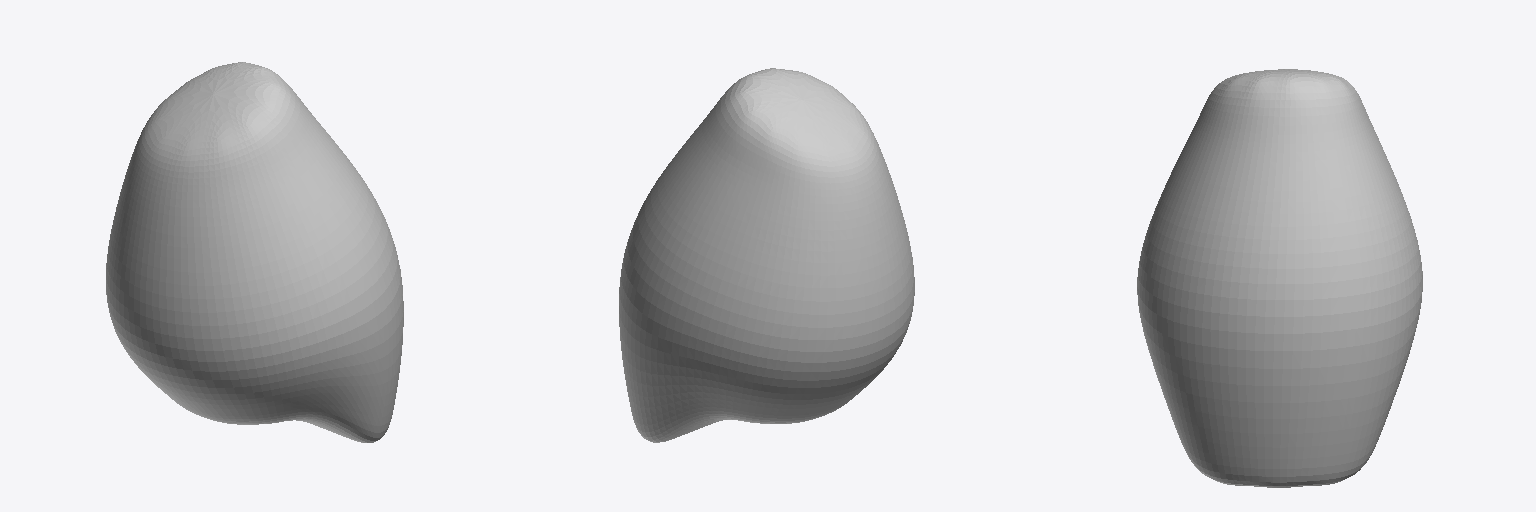
The model's file is lowarmL.obj.
3 renders of one model, left to right at view 1: azimuth 30°, elevation 25°; view 2: azimuth 150°, elevation 25°; view 3: azimuth 270°, elevation 25°, orthographic.
Visible parts, largest first — view 1: polySurface52 uploads_files_[number redacted]_Guts_man:Mesh; view 2: polySurface52 uploads_files_[number redacted]_Guts_man:Mesh; view 3: polySurface52 uploads_files_[number redacted]_Guts_man:Mesh.
Part boxes in pixels (x1,y1,x2,y2): polySurface52 uploads_files_[number redacted]_Guts_man:Mesh: (106, 62, 403, 442); polySurface52 uploads_files_[number redacted]_Guts_man:Mesh: (619, 68, 914, 442); polySurface52 uploads_files_[number redacted]_Guts_man:Mesh: (1137, 69, 1422, 487).
Size of the model in its own units: 0.3648 by 0.4887 by 0.3481.